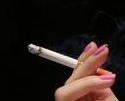smoke: (27, 43, 113, 79)
